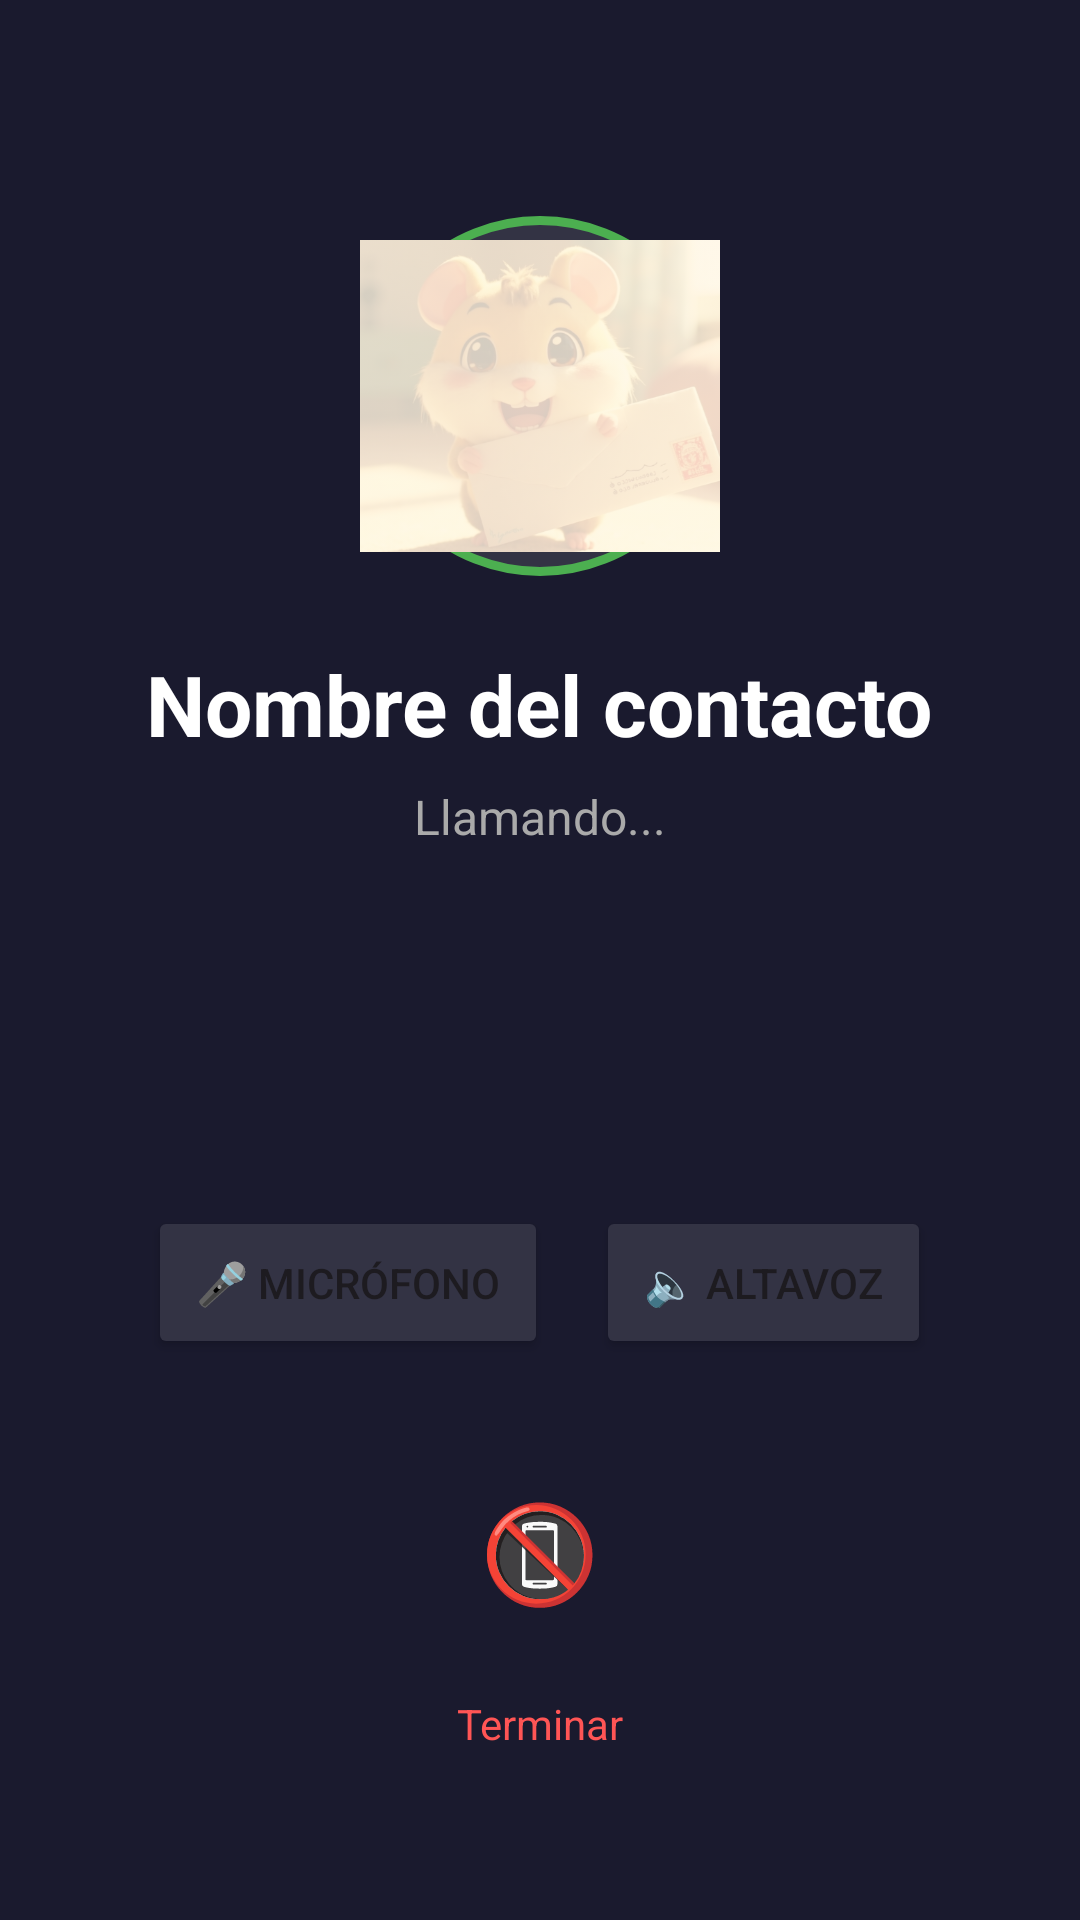

Locate icon controls on the screen. Image size 1080 x 1920, boxes as bbox(x1, y1, x2, y2).
hamtaro faded: bbox(360, 216, 720, 576)
